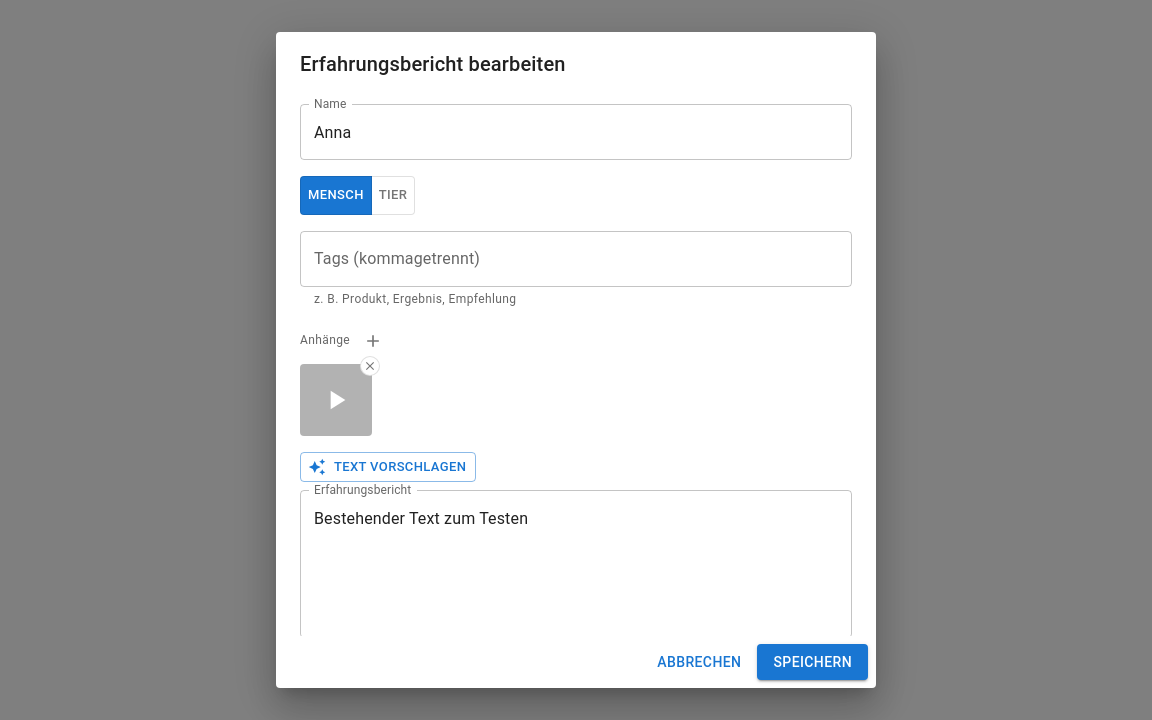
Scenario: KI-Textvorschlag aus Video/Audio › generiert per Klick einen Textvorschlag und übernimmt ihn ins Textfeld
This screenshot has width=1152, height=720.
Click the button "Text vorschlagen" at x=388, y=467, box [300,452,476,482]
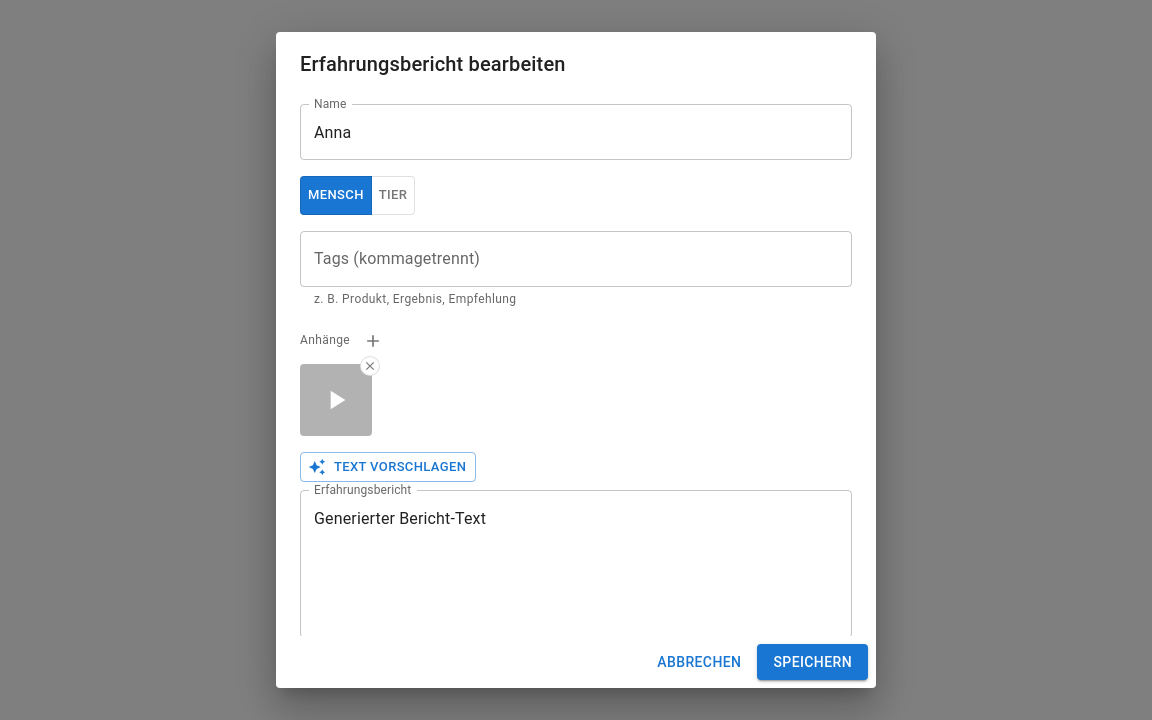
Expected: the text box labelled "Erfahrungsbericht" holds "Generierter Bericht-Text", [314,507,838,622]
